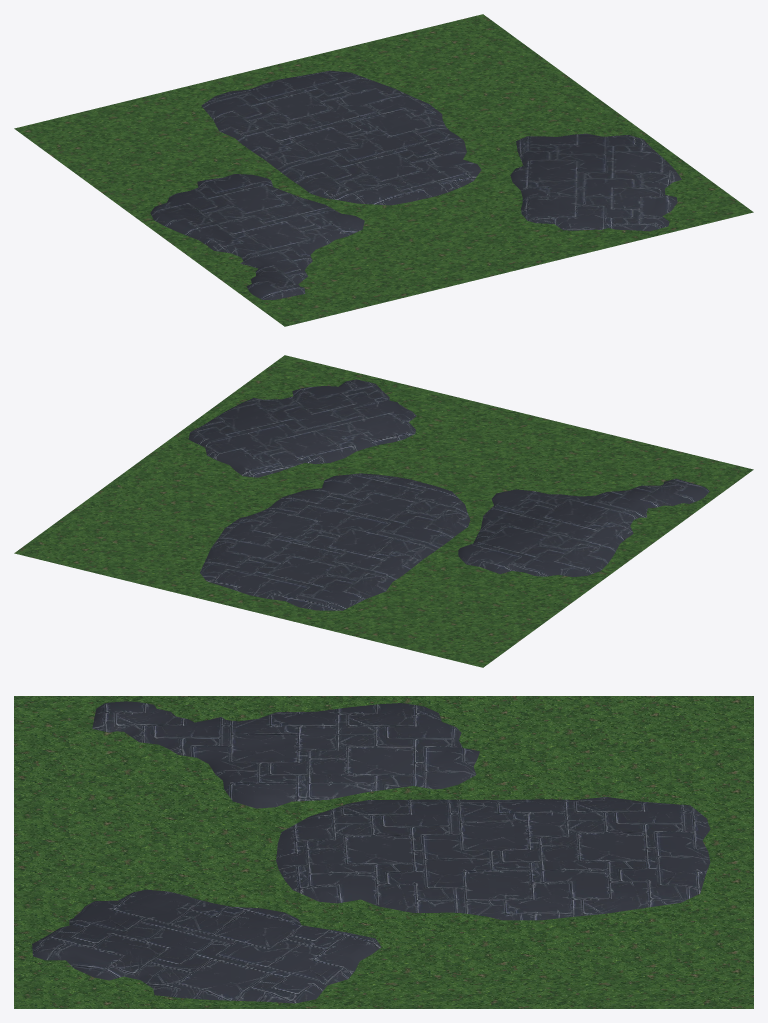
File: terrain-floor.glb
3 views of the same model, one above another, from view 1: azimuth 30°, elevation 25°; view 2: azimuth 150°, elevation 25°; view 3: azimuth 270°, elevation 25° (orthographic). The views are drawn at different scales.
Parts seen in each view (by area): view 1: TerrainFloor; view 2: TerrainFloor; view 3: TerrainFloor.
Boxes of the visible parts, x1,y1,x2,y2 form: TerrainFloor: (14, 14, 753, 326); TerrainFloor: (14, 355, 753, 667); TerrainFloor: (14, 696, 753, 1008).
Bounding box in the file's own units: 81.19 × 0.555 × 81.19.
Materials: 2 (2 with a texture image).
